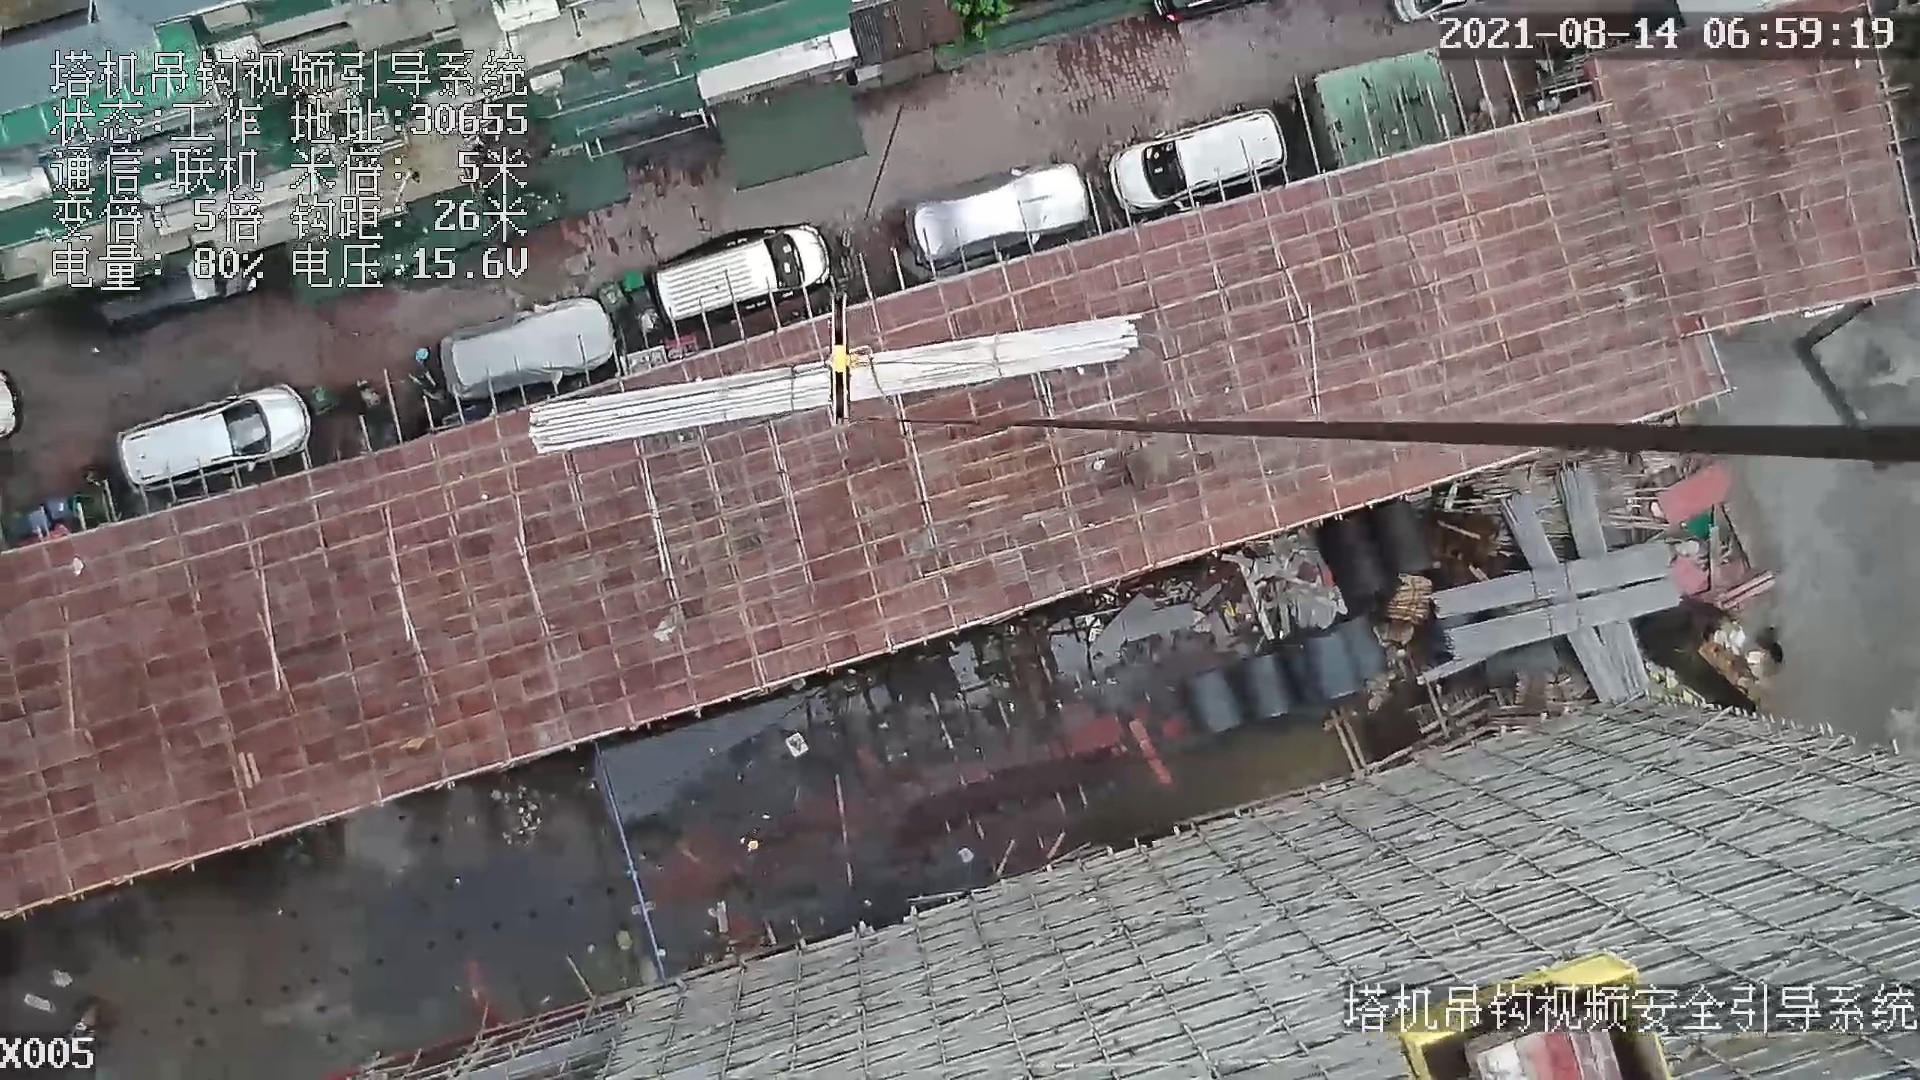hook: (812, 291, 878, 426)
rebar: (531, 313, 1149, 456), (1501, 493, 1626, 704), (1447, 578, 1681, 665), (1556, 472, 1648, 688), (1435, 541, 1672, 620)
wood: (1387, 572, 1431, 622)
